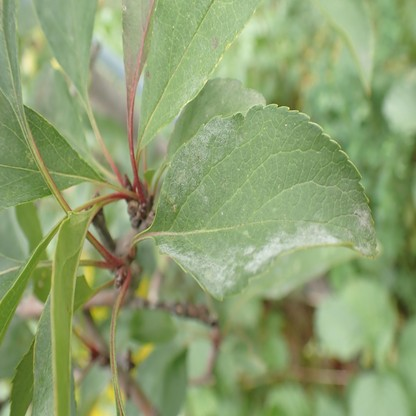powder: (161, 116, 242, 212), (243, 222, 342, 275), (187, 79, 265, 133), (157, 243, 238, 290), (168, 44, 216, 117), (0, 97, 31, 202), (33, 296, 53, 416), (345, 206, 374, 253)
